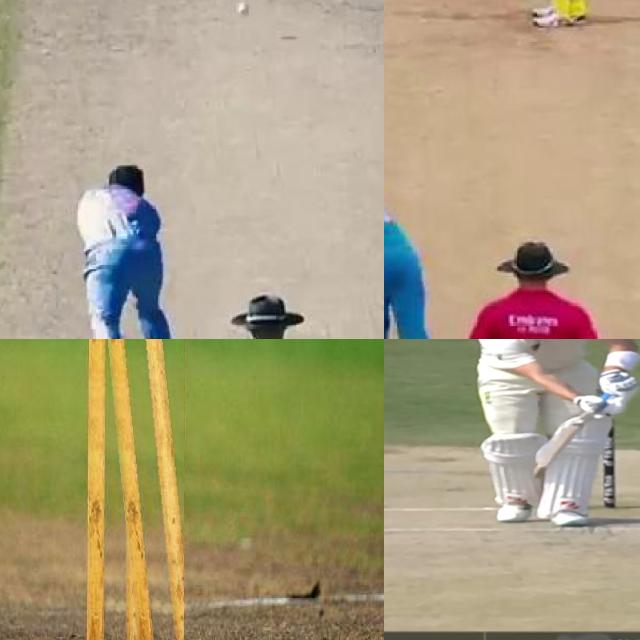Cricket ball: (236, 0, 248, 16)
Stumps: (88, 339, 184, 640)
